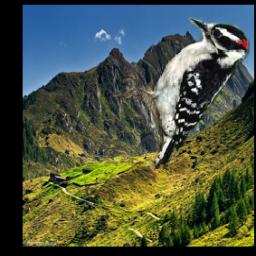Woodpecker: (114, 18, 251, 170)
